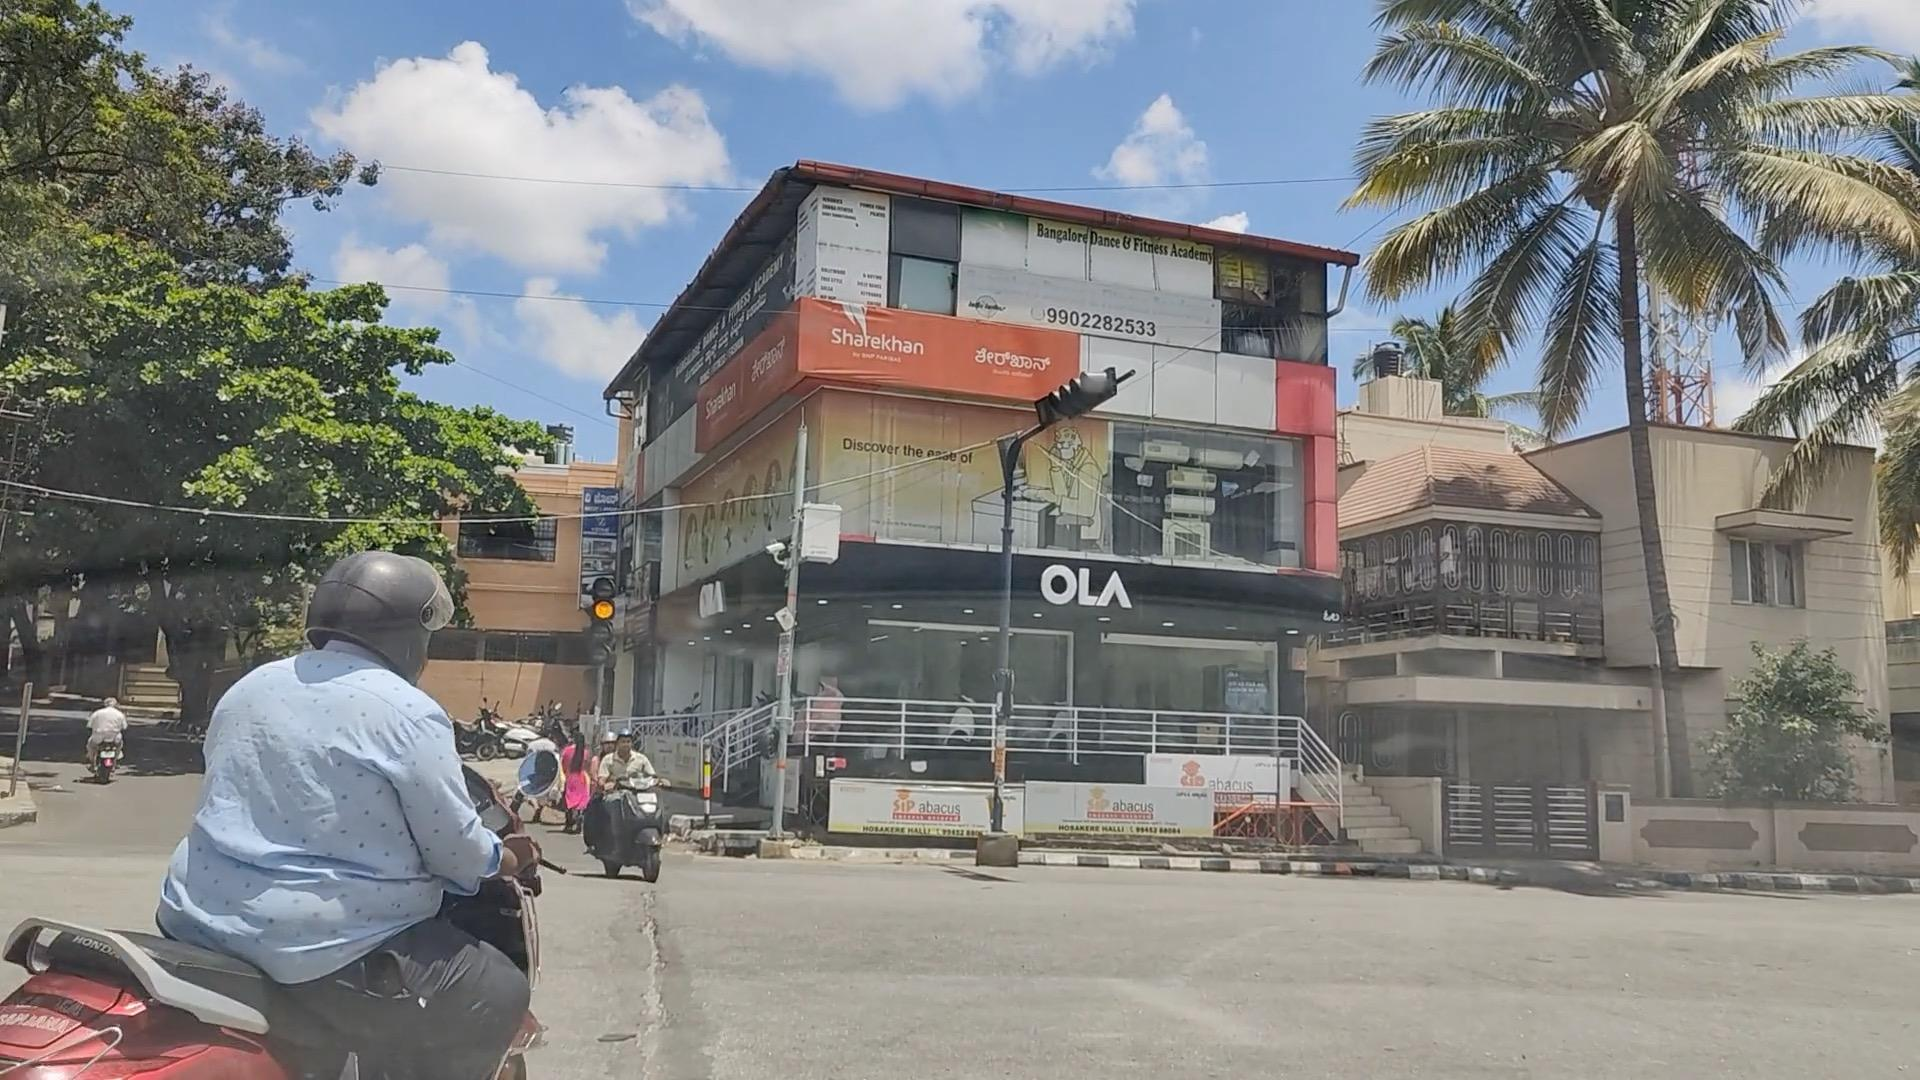LMV: (50, 563, 467, 1080), (583, 727, 679, 851)
RoadDamages: (589, 877, 728, 1060)
